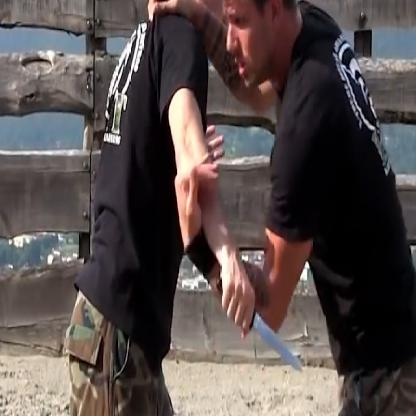knife: (213, 271, 312, 382)
